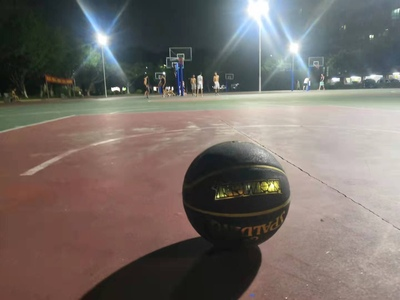ball: (182, 140, 290, 251)
